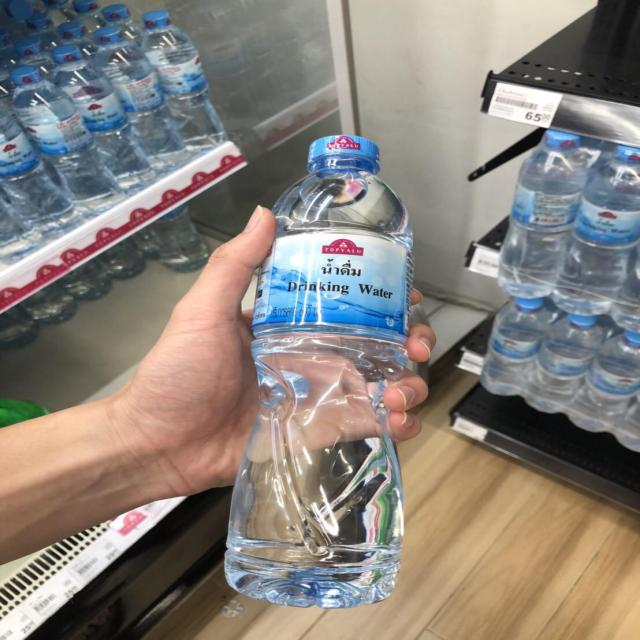bottle: (216, 120, 427, 621)
